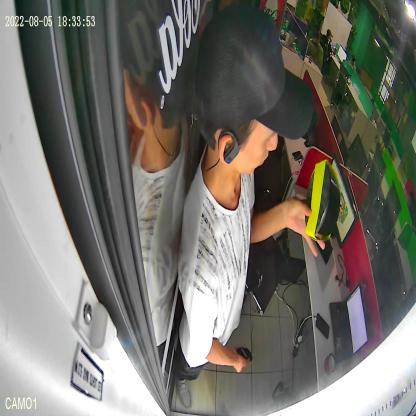yellow: (305, 159, 341, 241)
